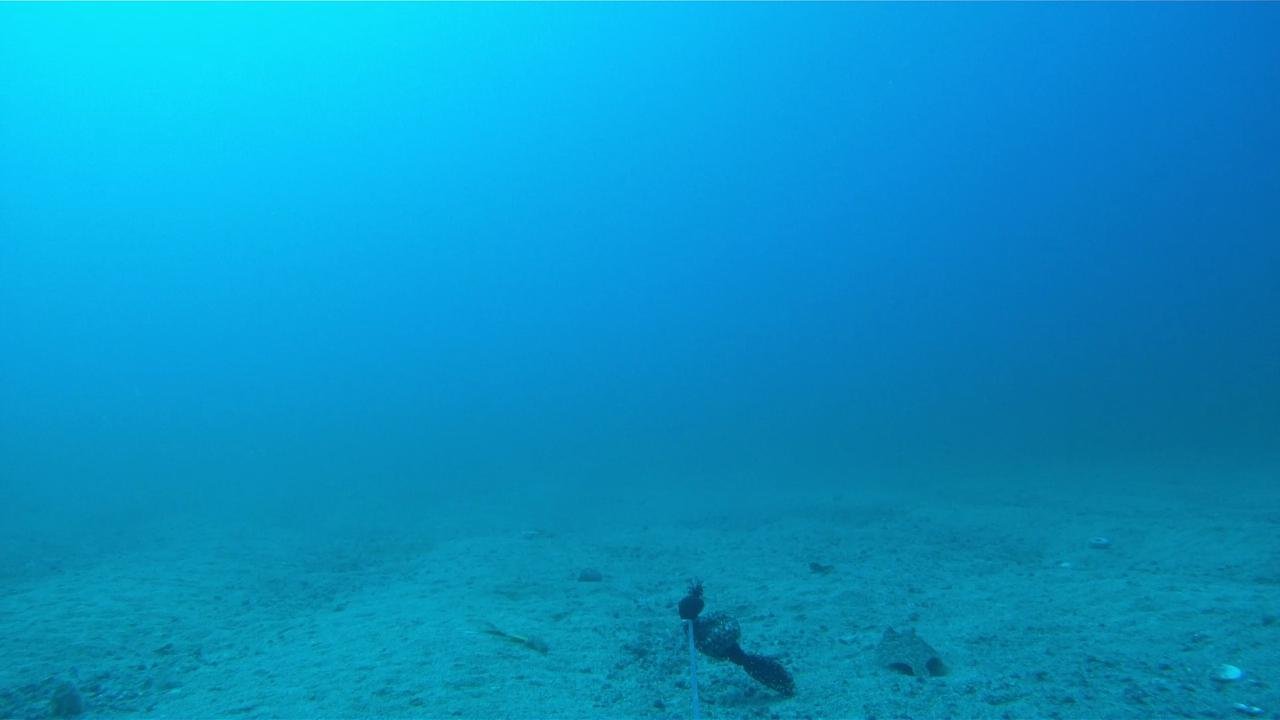bothus: (868, 619, 948, 688)
